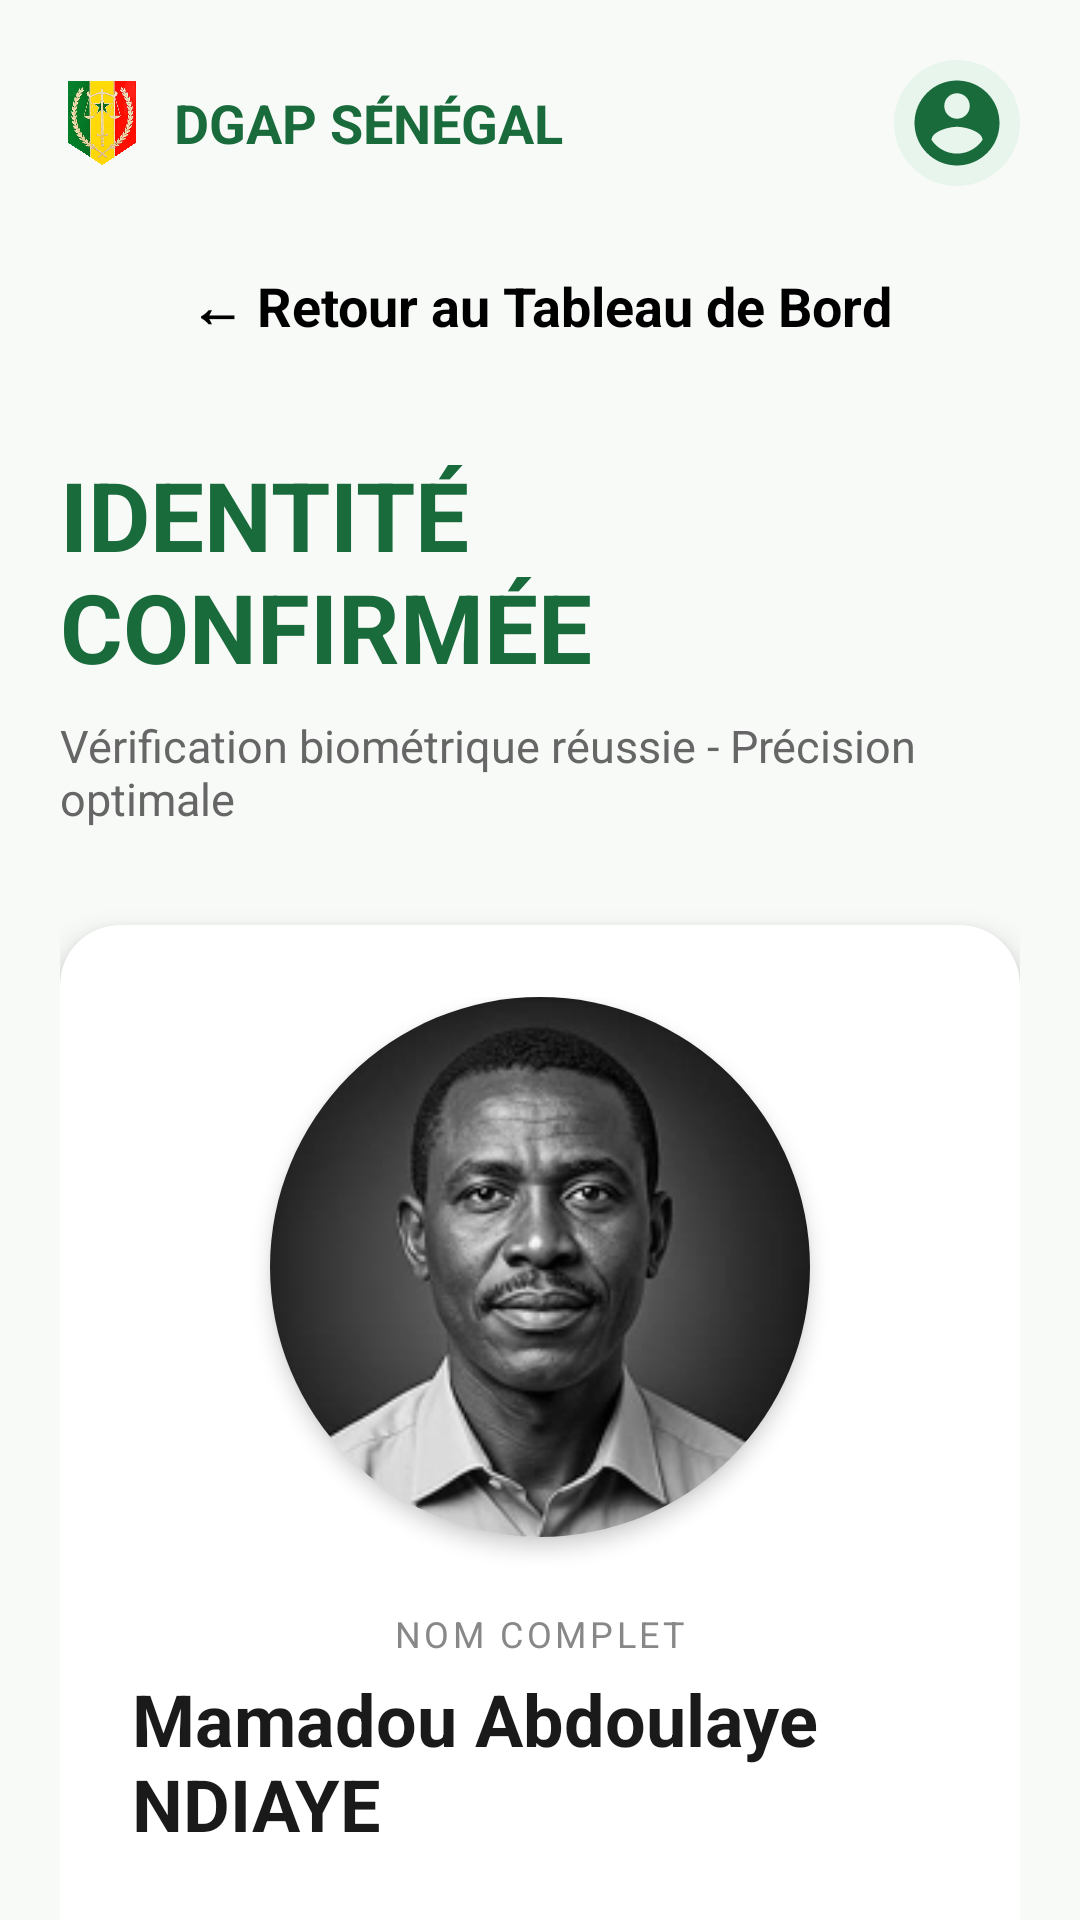

Where icons sit on this 1080 x 1920 app screen, as Rect(x1, y1, x2, y2):
profil: Rect(914, 80, 1000, 166)
